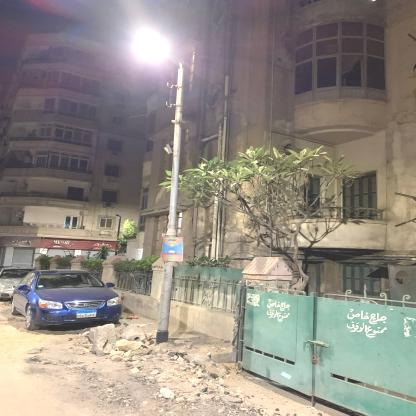light_pole: (136, 35, 186, 343), (114, 214, 122, 258)
